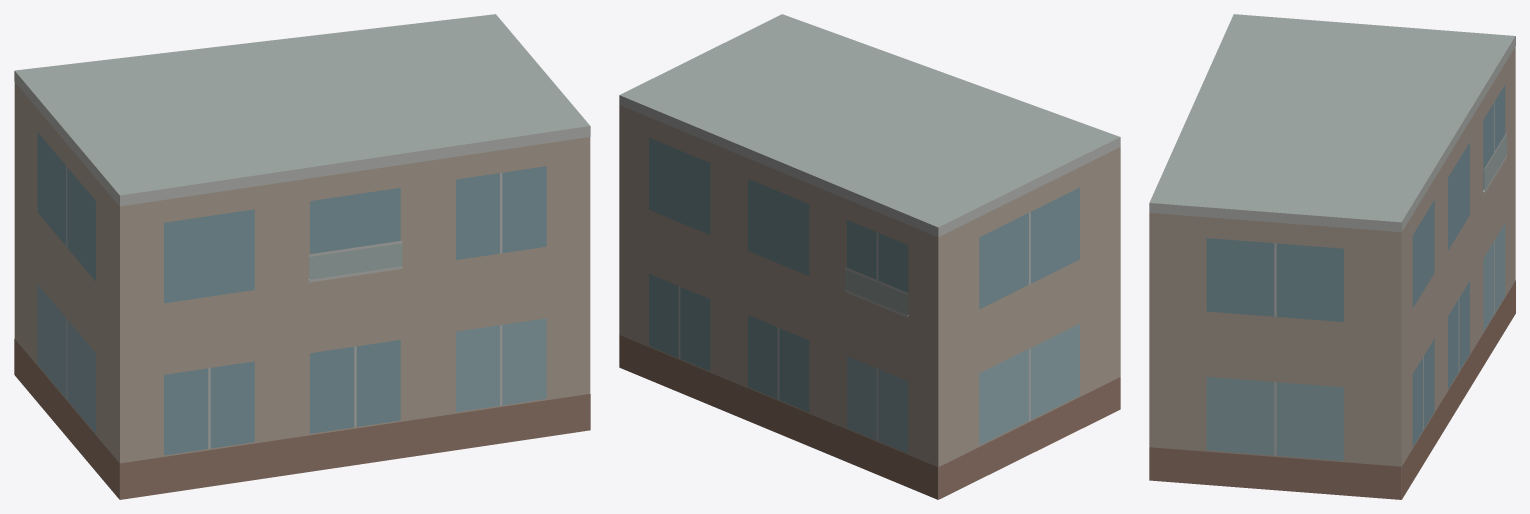
Rendered from survey-upis-32953419.glb.
3 views of the same model, side by side, from view 1: azimuth 30°, elevation 25°; view 2: azimuth 150°, elevation 25°; view 3: azimuth 270°, elevation 25° (orthographic). The views are drawn at different scales.
Parts seen in each view (by area): view 1: survey-upis-32953419.tmp; view 2: survey-upis-32953419.tmp; view 3: survey-upis-32953419.tmp.
Part boxes in pixels (box(x1,y1,x2,y2)): survey-upis-32953419.tmp: box(14, 14, 590, 499); survey-upis-32953419.tmp: box(619, 14, 1120, 499); survey-upis-32953419.tmp: box(1149, 14, 1515, 499).
Size of the model in its own units: 10.96 by 6.8 by 8.15.
